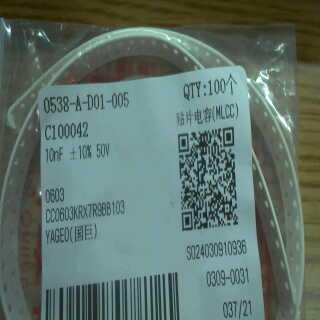10nF: (41, 143, 67, 167)
